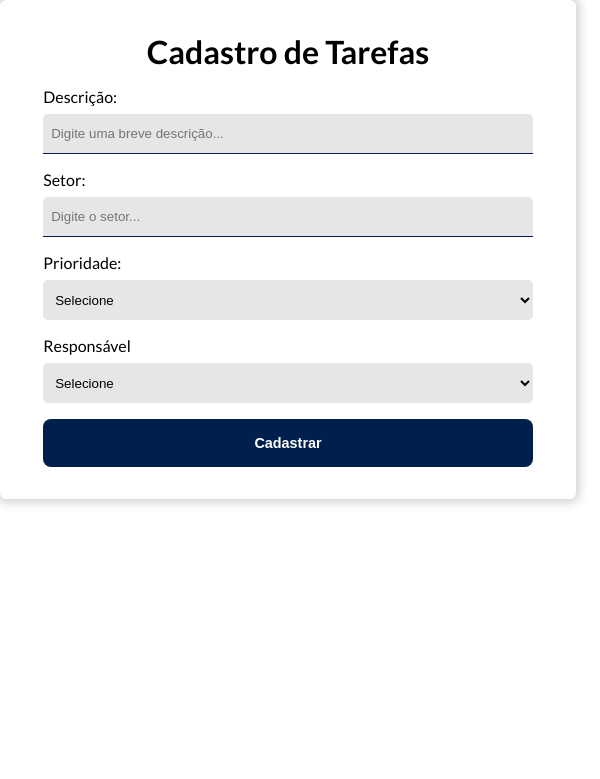
it: Cadastro de tarefas › Exibe mensagem de erro quando o usuario começa ou terminal com espaço no campo descrição
The image size is (600, 779).
Type "teste " into the field labelled "Descrição:" at point(288, 134), box [43,114,533,154]
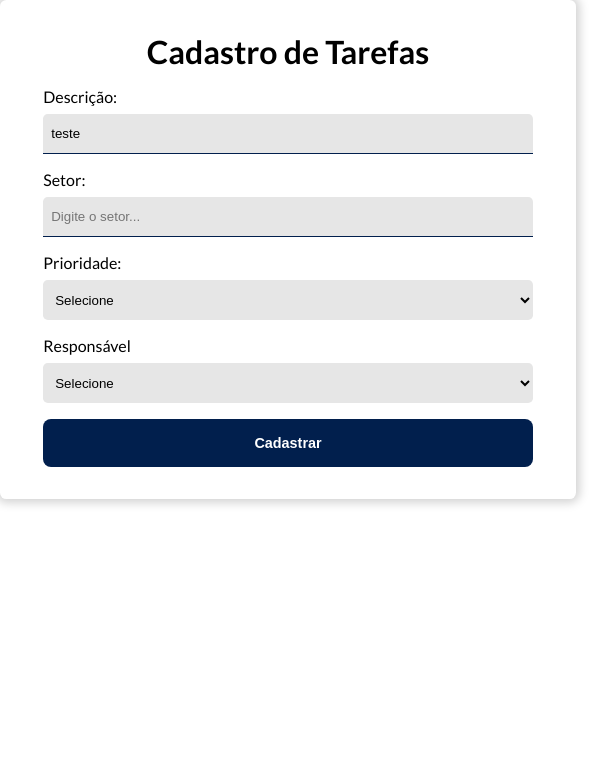
Click the button "Cadastrar" at point(288, 443), box [43,419,533,467]
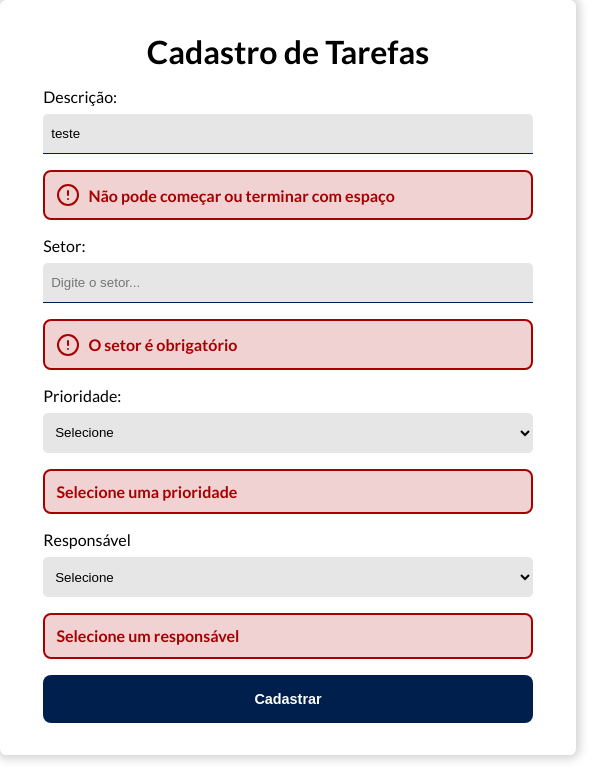
Expected: the text "Não pode começar ou terminar com espaço" is shown, [43,170,533,220]
